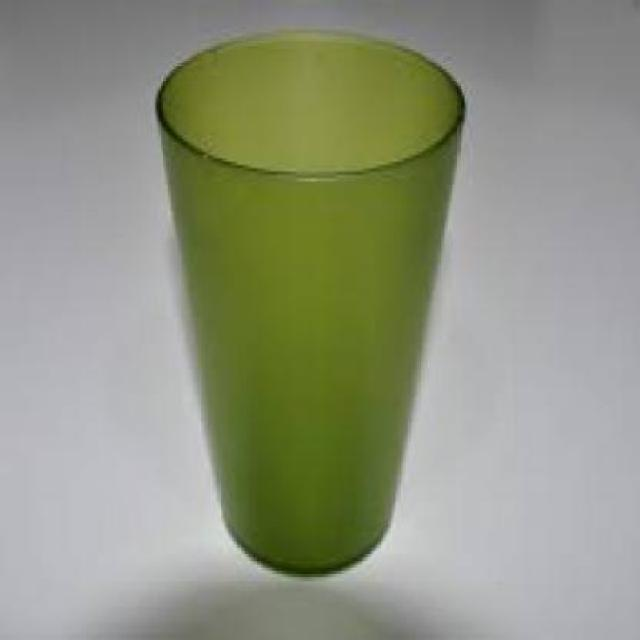kaca: (157, 29, 463, 574)
